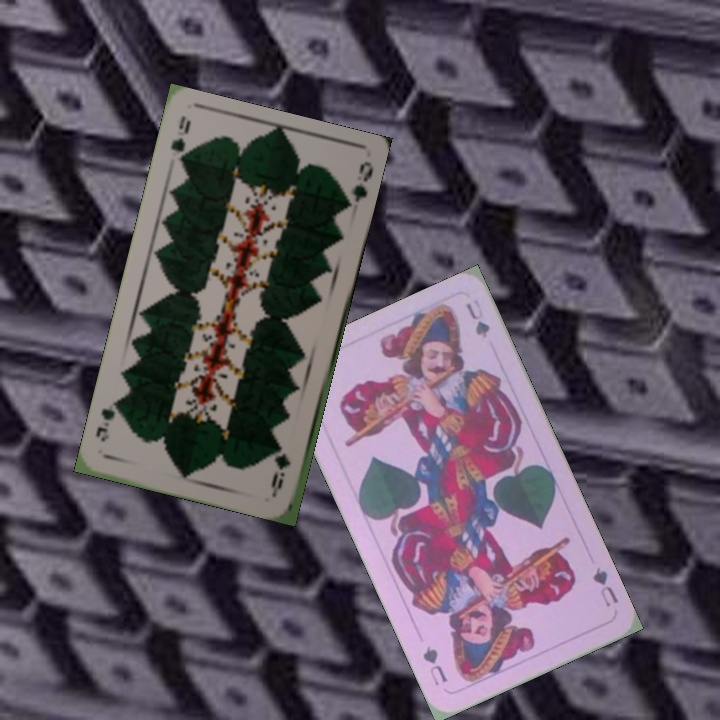G9: (166, 111, 194, 171), (268, 449, 293, 492)
GU: (588, 563, 621, 609)
